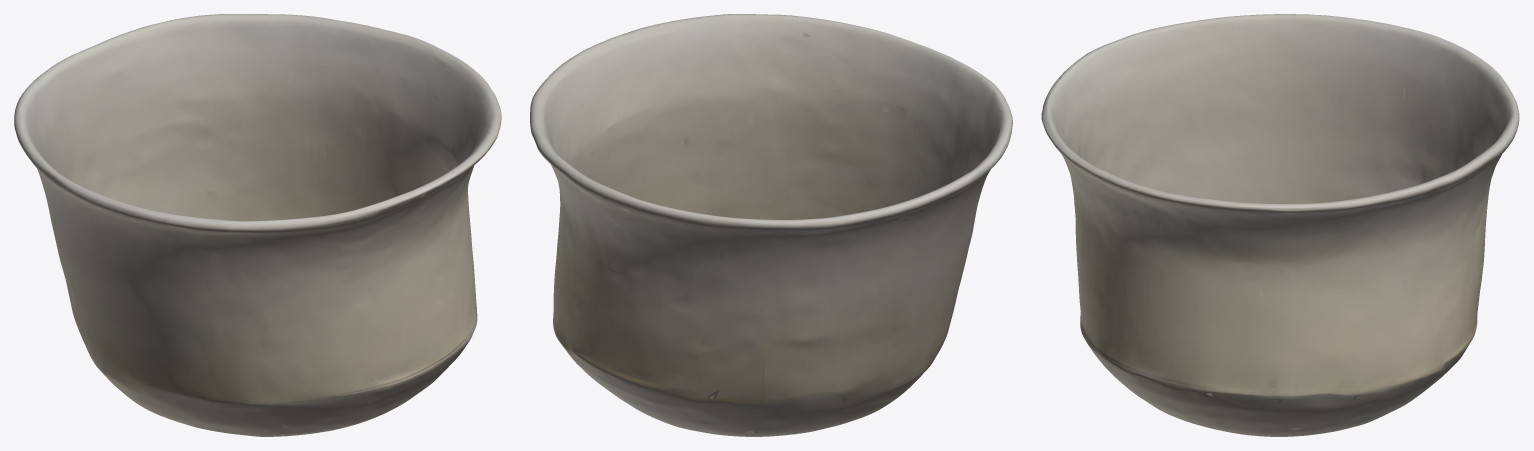
Rendered from bowl.fbx.
3 renders of one model, left to right at view 1: azimuth 30°, elevation 25°; view 2: azimuth 150°, elevation 25°; view 3: azimuth 270°, elevation 25°, orthographic.
Parts seen in each view (by area): view 1: texture_v100; view 2: texture_v100; view 3: texture_v100.
Part boxes in pixels (x1,y1,x2,y2): texture_v100: [14, 14, 501, 436]; texture_v100: [530, 14, 1012, 436]; texture_v100: [1041, 14, 1519, 436].
Size of the model in its own units: 97.18 by 60.3 by 97.23.
Materials: 1 (1 with a texture image).
